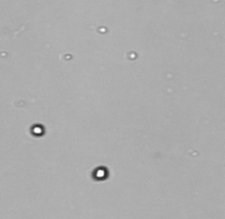Living Cell: (92, 166, 108, 181), (30, 123, 44, 136)
